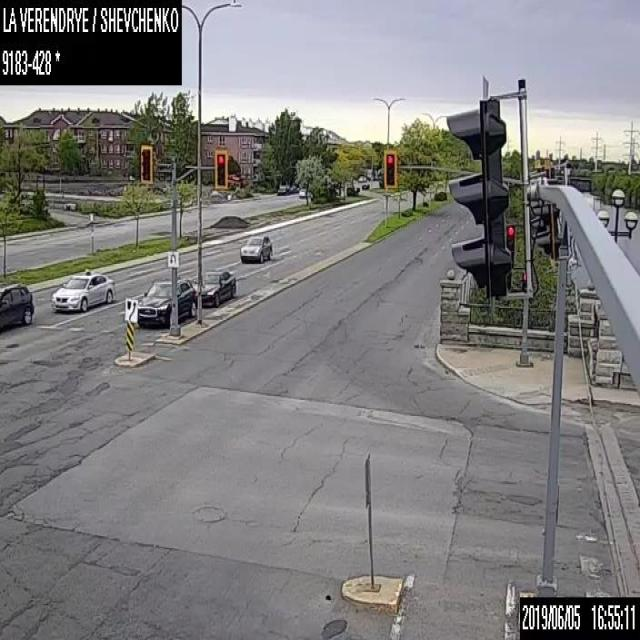vehicle: (136, 276, 197, 328), (50, 271, 114, 313), (192, 265, 237, 306), (0, 283, 34, 329), (239, 230, 272, 262), (278, 184, 290, 195), (298, 187, 306, 197), (361, 182, 369, 190)
